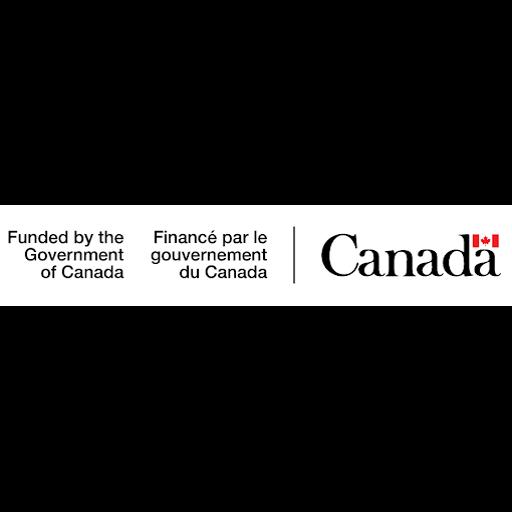Government of Canada: (0, 205, 512, 306)
